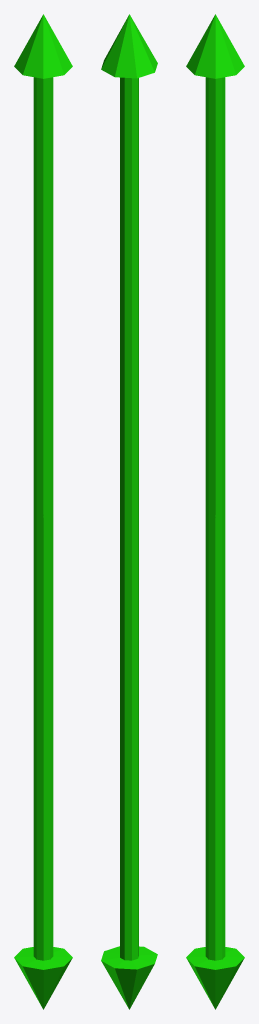
Rendered from flecha_vertical.fbx.
3 renders of one model, left to right at view 1: azimuth 90°, elevation 25°; view 2: azimuth 150°, elevation 25°; view 3: azimuth 270°, elevation 25°, orthographic.
Parts seen in each view (by area): view 1: flecha_Y; view 2: flecha_Y; view 3: flecha_Y.
Boxes of the visible parts, box(x1,y1,x2,y2) form: flecha_Y: box(14, 14, 72, 1009); flecha_Y: box(101, 14, 157, 1009); flecha_Y: box(186, 14, 244, 1009).
Size of the model in its own units: 6 by 112 by 6.
